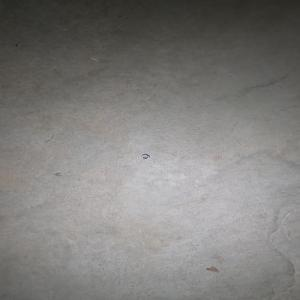Nut: (140, 154, 150, 159)
